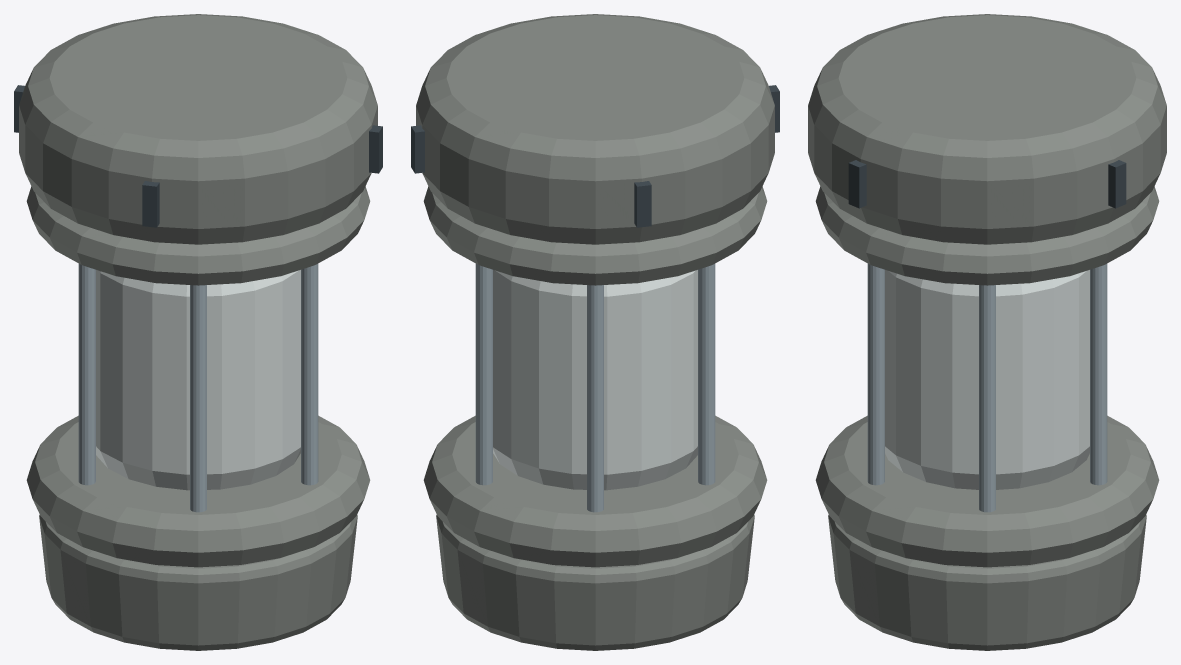
File: energy-unit-ch4.glb
The picture shows the model from 3 angles, left to right: view 1: azimuth 30°, elevation 25°; view 2: azimuth 150°, elevation 25°; view 3: azimuth 270°, elevation 25°; orthographic projection.
Parts seen in each view (by area): view 1: CarriedEnergyUnit_ProtectiveMetal, UnitCore, CarriedEnergyUnit_BrushedTitanium, CarriedEnergyUnit_GraphiteArmor; view 2: CarriedEnergyUnit_ProtectiveMetal, UnitCore, CarriedEnergyUnit_BrushedTitanium, CarriedEnergyUnit_GraphiteArmor; view 3: CarriedEnergyUnit_ProtectiveMetal, UnitCore, CarriedEnergyUnit_BrushedTitanium, CarriedEnergyUnit_GraphiteArmor.
Boxes of the visible parts, x1=… form: CarriedEnergyUnit_ProtectiveMetal: x1=19, y1=14, x2=377, y2=650; UnitCore: x1=96, y1=270, x2=300, y2=490; CarriedEnergyUnit_BrushedTitanium: x1=78, y1=264, x2=318, y2=512; CarriedEnergyUnit_GraphiteArmor: x1=14, y1=85, x2=382, y2=227; CarriedEnergyUnit_ProtectiveMetal: x1=416, y1=14, x2=774, y2=650; UnitCore: x1=493, y1=270, x2=697, y2=490; CarriedEnergyUnit_BrushedTitanium: x1=475, y1=264, x2=715, y2=512; CarriedEnergyUnit_GraphiteArmor: x1=411, y1=85, x2=779, y2=227; CarriedEnergyUnit_ProtectiveMetal: x1=808, y1=14, x2=1166, y2=650; UnitCore: x1=885, y1=270, x2=1089, y2=489; CarriedEnergyUnit_BrushedTitanium: x1=867, y1=264, x2=1107, y2=512; CarriedEnergyUnit_GraphiteArmor: x1=848, y1=160, x2=1126, y2=208.
Size of the model in its own units: 0.095 by 0.15 by 0.095.
